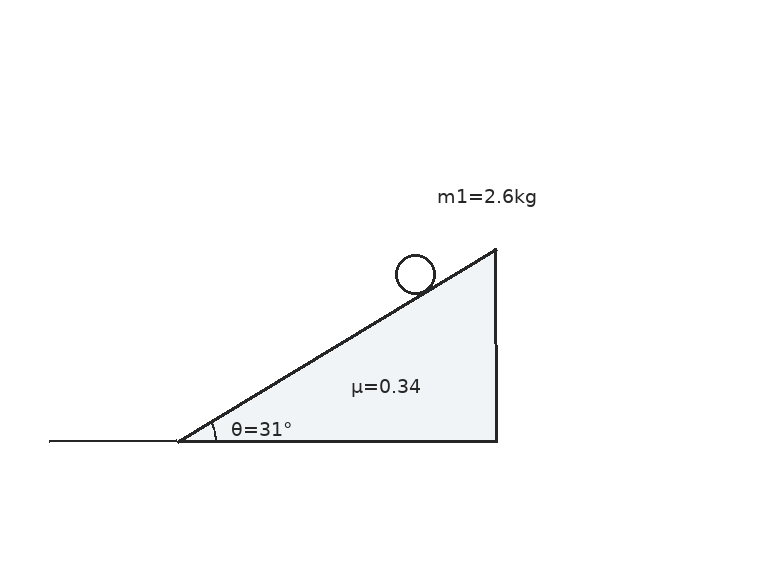ball: (393, 252, 437, 296)
ramp: (174, 247, 498, 443)
